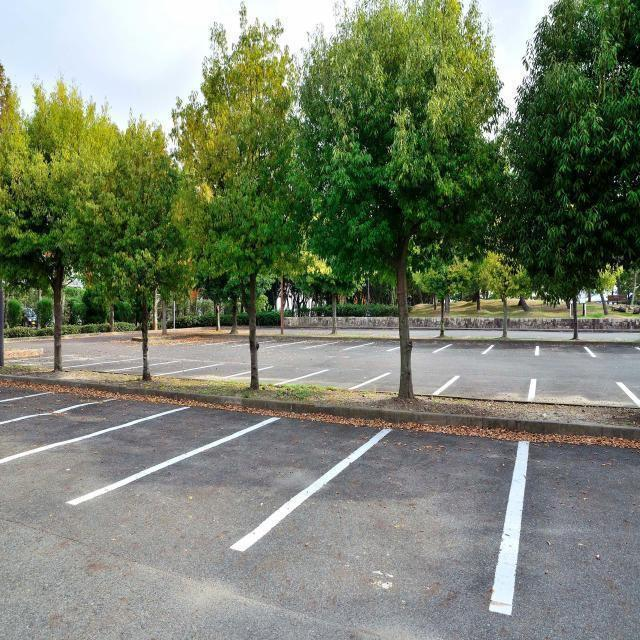Vacant: (230, 424, 527, 624), (63, 410, 390, 555), (0, 404, 278, 511), (487, 442, 640, 622), (0, 393, 200, 466), (0, 388, 126, 430), (527, 377, 640, 409), (346, 370, 461, 397), (430, 375, 536, 404), (273, 369, 393, 393), (101, 359, 226, 379), (151, 362, 276, 380), (217, 365, 328, 385)
